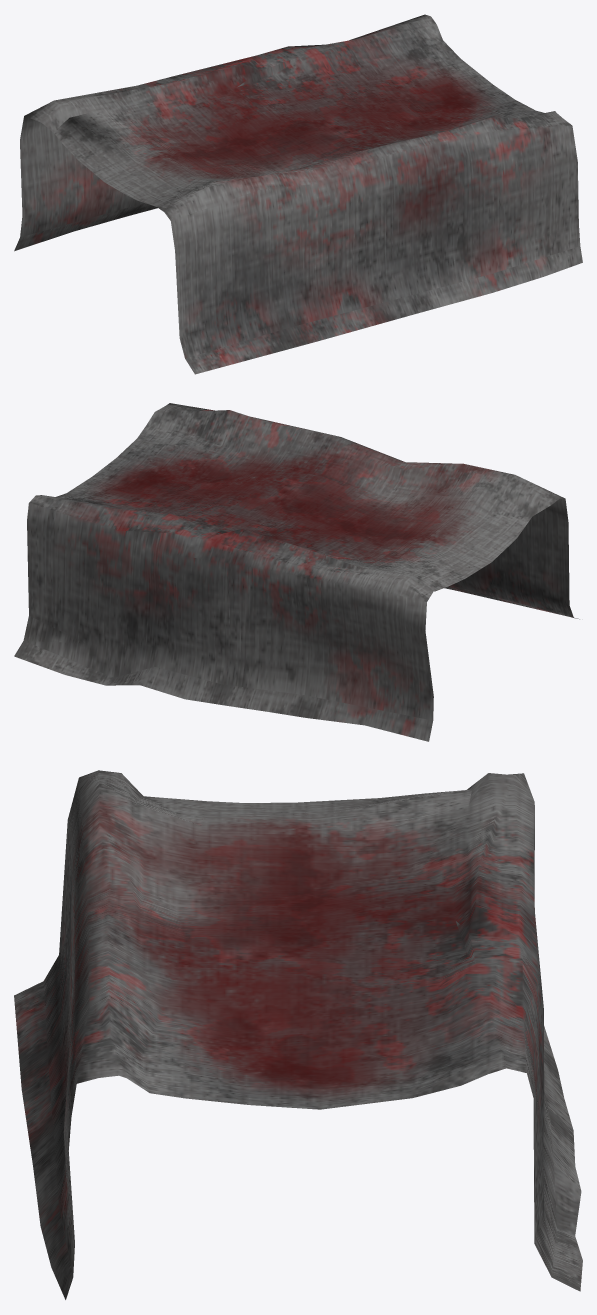
Rendered from SM_Bed_Sheet_B.glb.
3 renders of one model, top to bottom at view 1: azimuth 30°, elevation 25°; view 2: azimuth 150°, elevation 25°; view 3: azimuth 270°, elevation 25°, orthographic. The views are drawn at different scales.
Visible parts, largest first — view 1: SM_BedSheet_A; view 2: SM_BedSheet_A; view 3: SM_BedSheet_A.
Boxes of the visible parts, box(x1,y1,x2,y2) form: SM_BedSheet_A: box(14, 14, 582, 374); SM_BedSheet_A: box(14, 403, 579, 741); SM_BedSheet_A: box(14, 770, 582, 1299).
Bounding box in the file's own units: 1.55 × 0.5834 × 1.18.
Materials: 1 (1 with a texture image).
